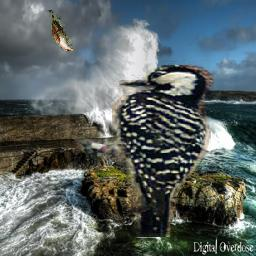Cuckoo: (47, 11, 74, 52)
Woodpecker: (72, 60, 214, 238)
